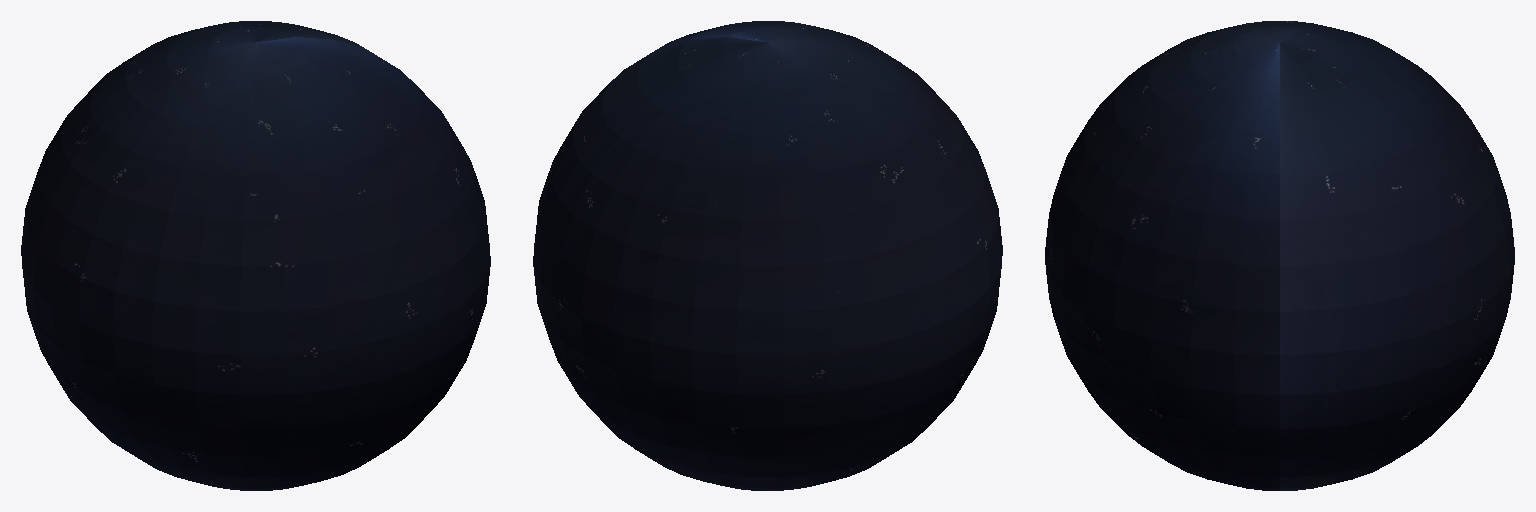
3 views of the same model, side by side, from view 1: azimuth 30°, elevation 25°; view 2: azimuth 150°, elevation 25°; view 3: azimuth 270°, elevation 25° (orthographic).
Parts seen in each view (by area): view 1: skydome_球; view 2: skydome_球; view 3: skydome_球.
Boxes of the visible parts, x1,y1,x2,y2 form: skydome_球: [21, 21, 490, 490]; skydome_球: [533, 21, 1002, 490]; skydome_球: [1045, 21, 1514, 490].
Bounding box in the file's own units: 20 × 20 × 20.
Materials: 1 (1 with a texture image).